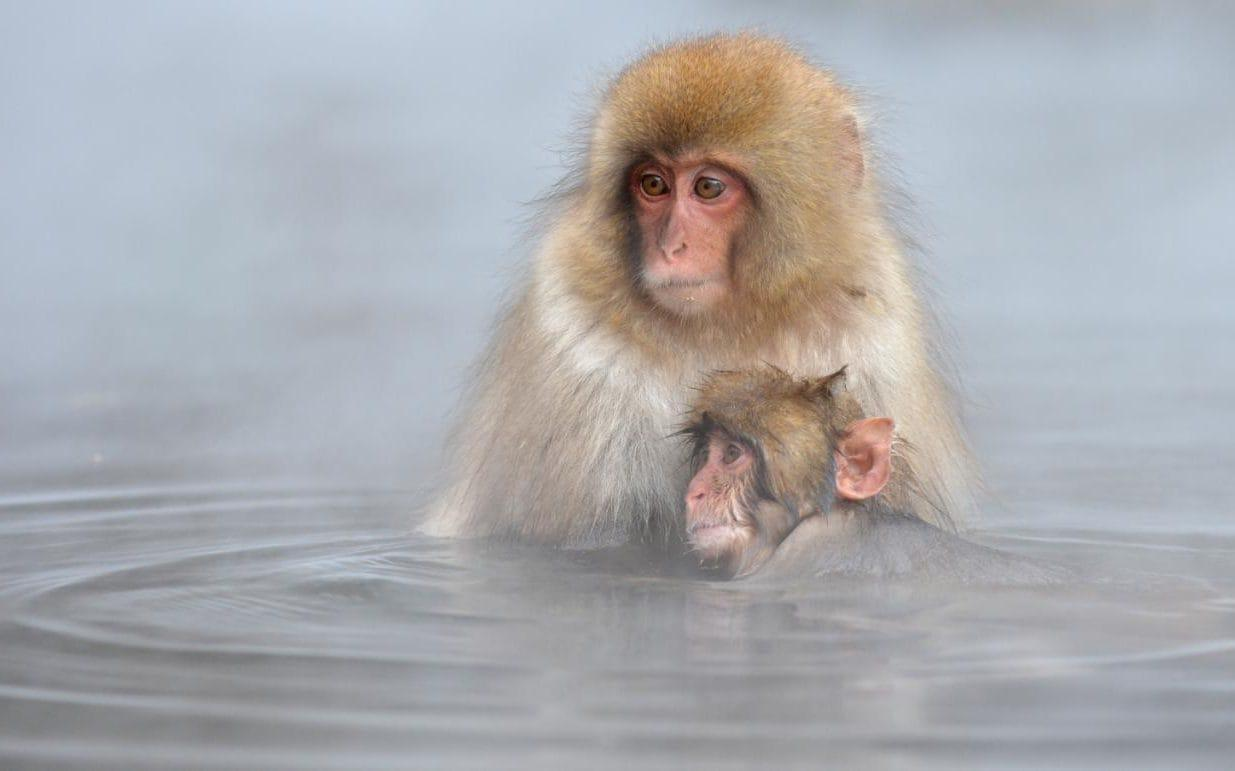monkey: (419, 102, 989, 580)
